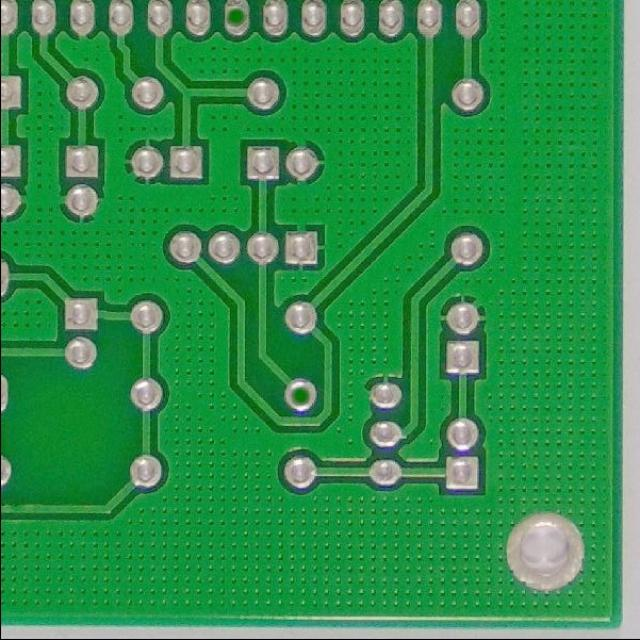Missing_Hole: (280, 375, 321, 413), (219, 0, 254, 37)
